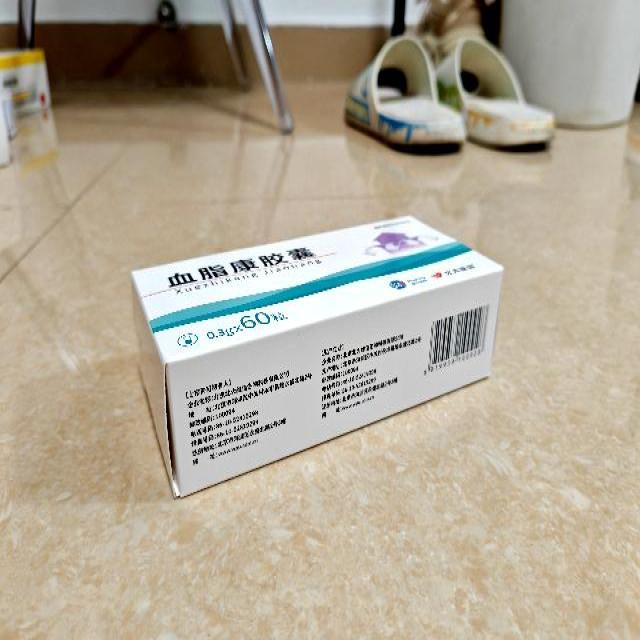box: (131, 212, 505, 500)
